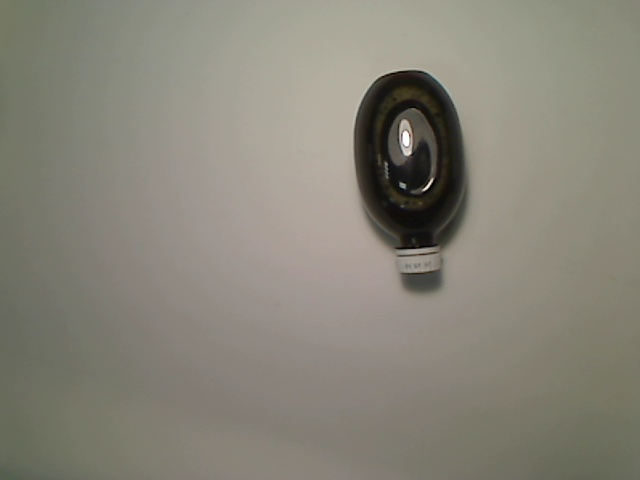plast_bottle: (352, 67, 468, 276)
